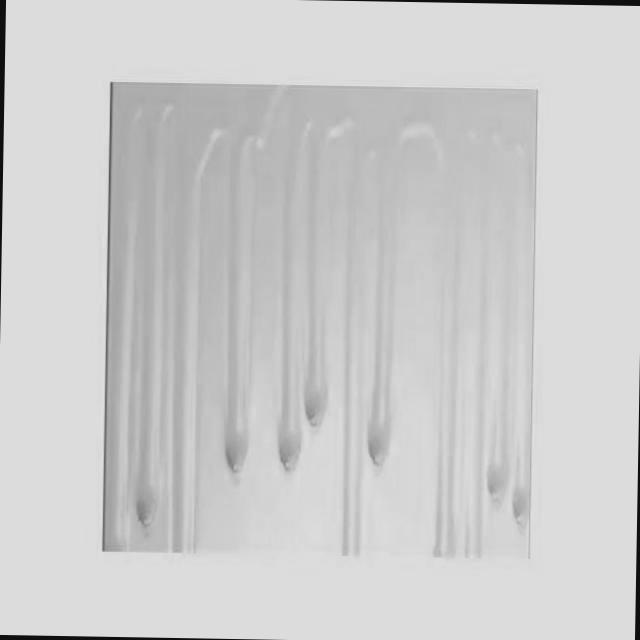paint drips: (410, 94, 530, 528), (326, 89, 432, 522), (117, 85, 211, 542), (252, 90, 344, 532), (193, 86, 271, 534)
